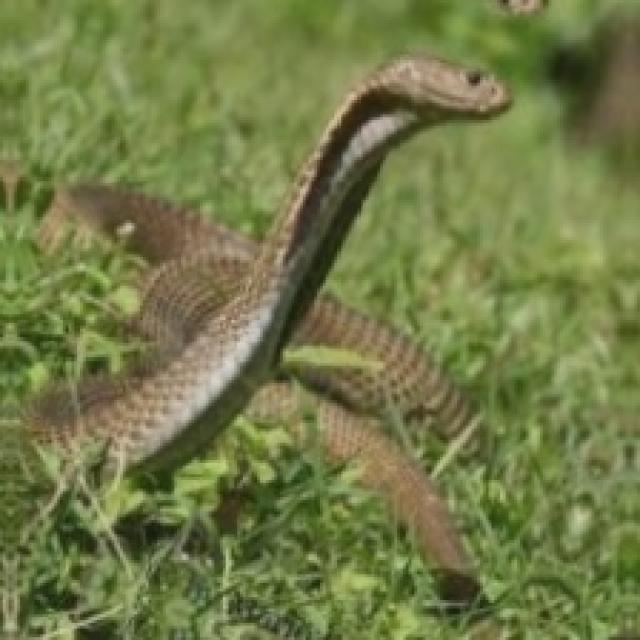philippine cobra: (26, 54, 509, 603)
